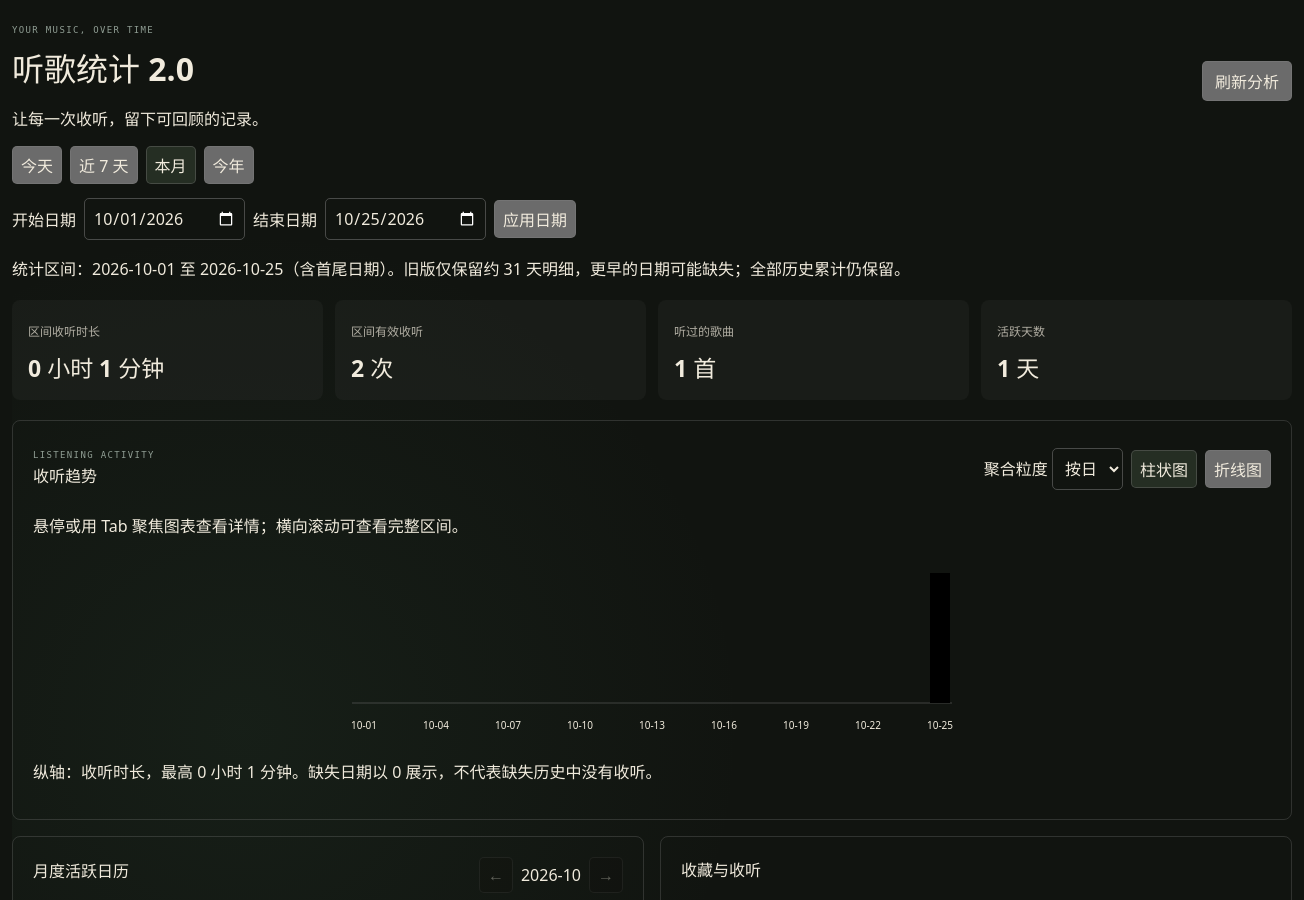
日期与会话变化后忽略旧响应
The image size is (1304, 900).
Type "2025-06-01" into the date field labelled "开始日期" at coordinates (164, 219), box [84,198,245,240]
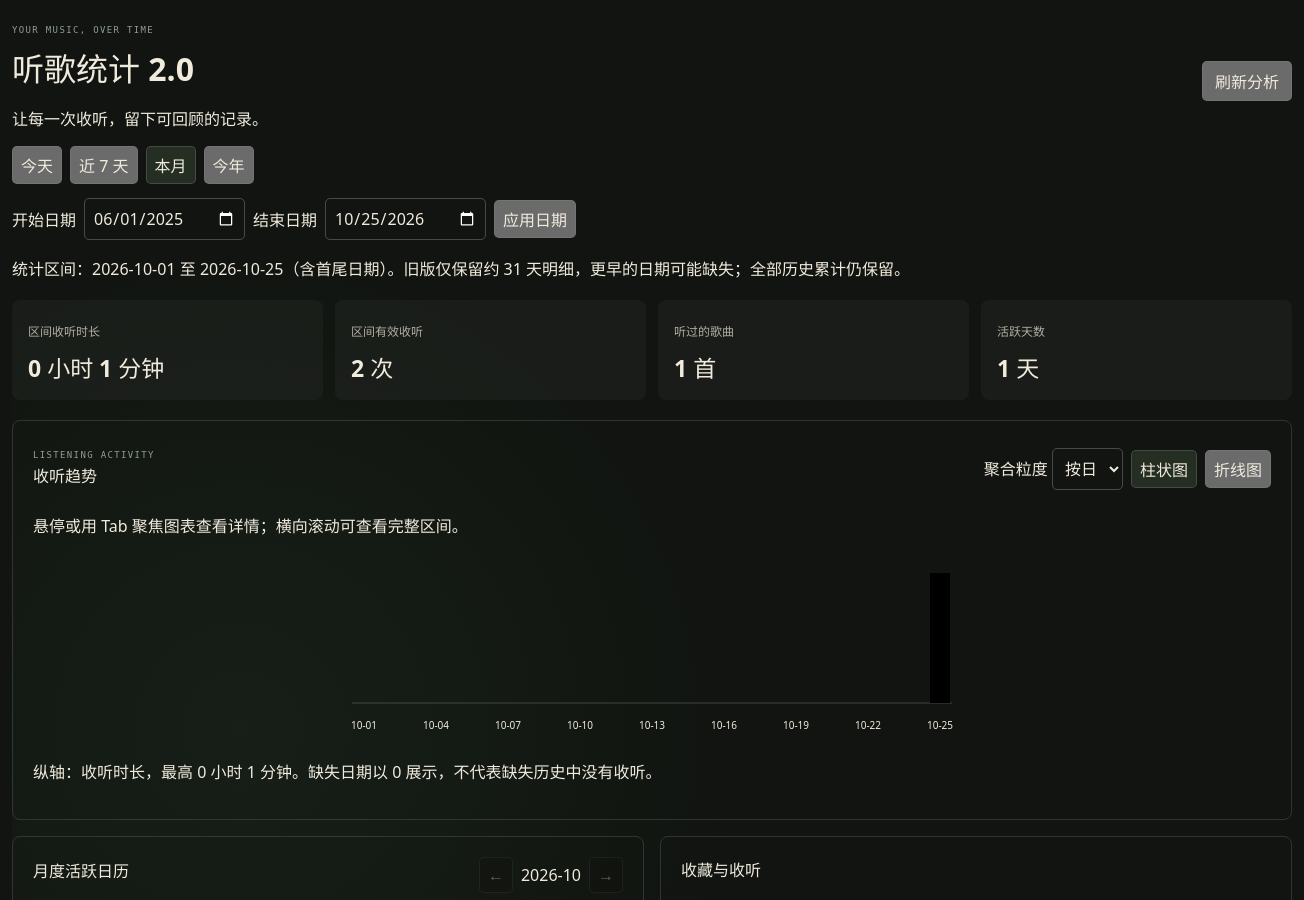
Type "2025-06-30" into the date field labelled "结束日期" at coordinates (406, 219), box [325,198,486,240]
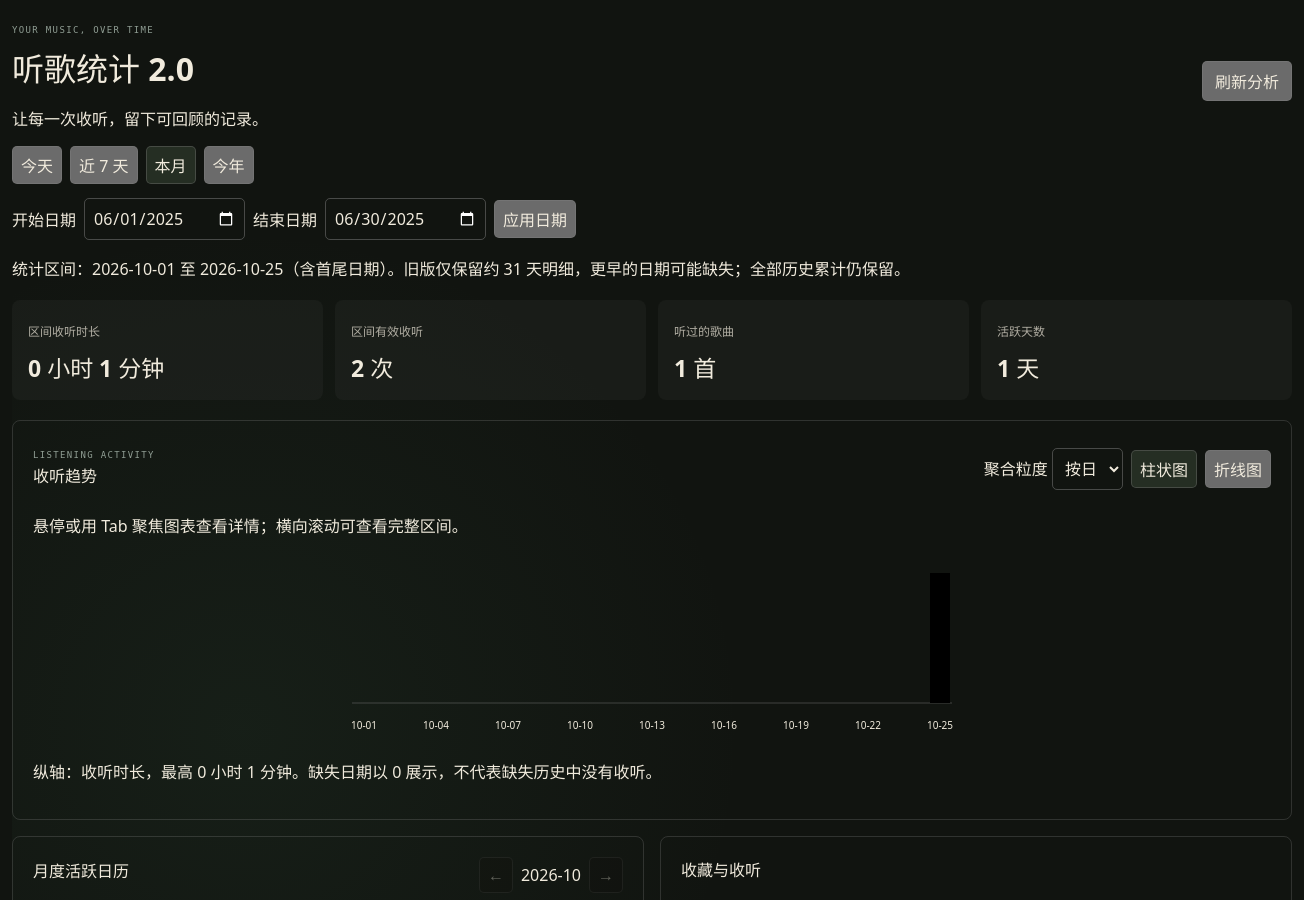
Click the button "应用日期" at coordinates (535, 219), box [494,200,576,238]
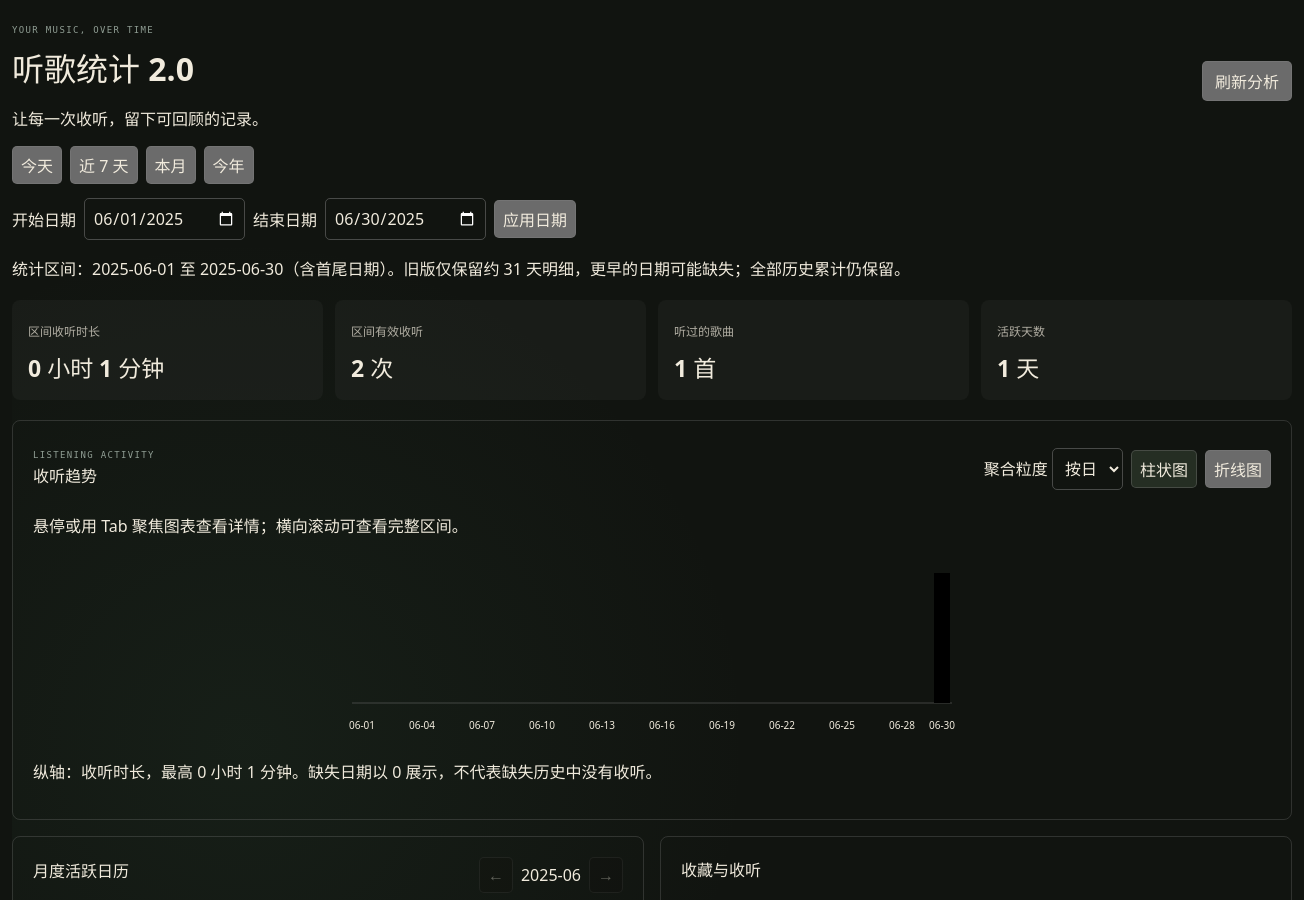
Expected: the text "统计区间：2025-06-01" is shown, [12,258,910,280]
